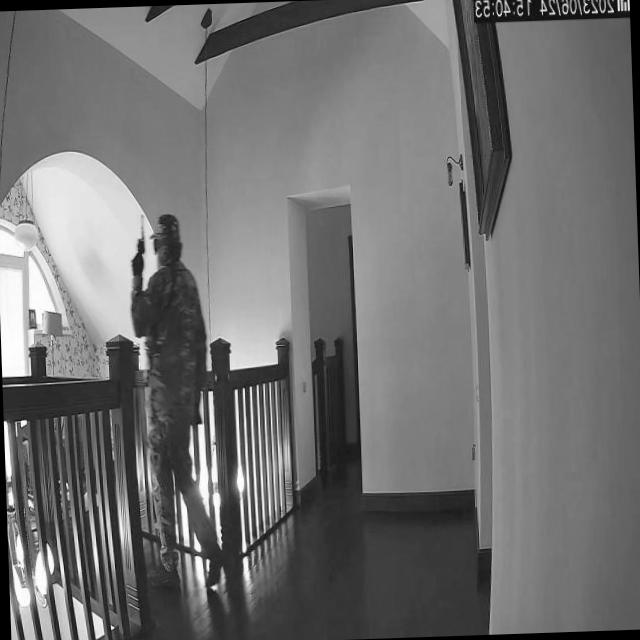gun: (128, 212, 148, 263)
person with a gun: (130, 210, 213, 585)
